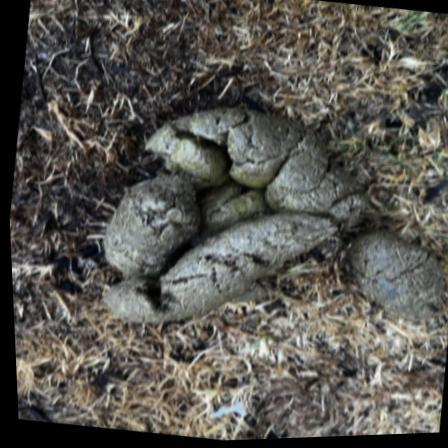dog-poop: (78, 87, 448, 365)
